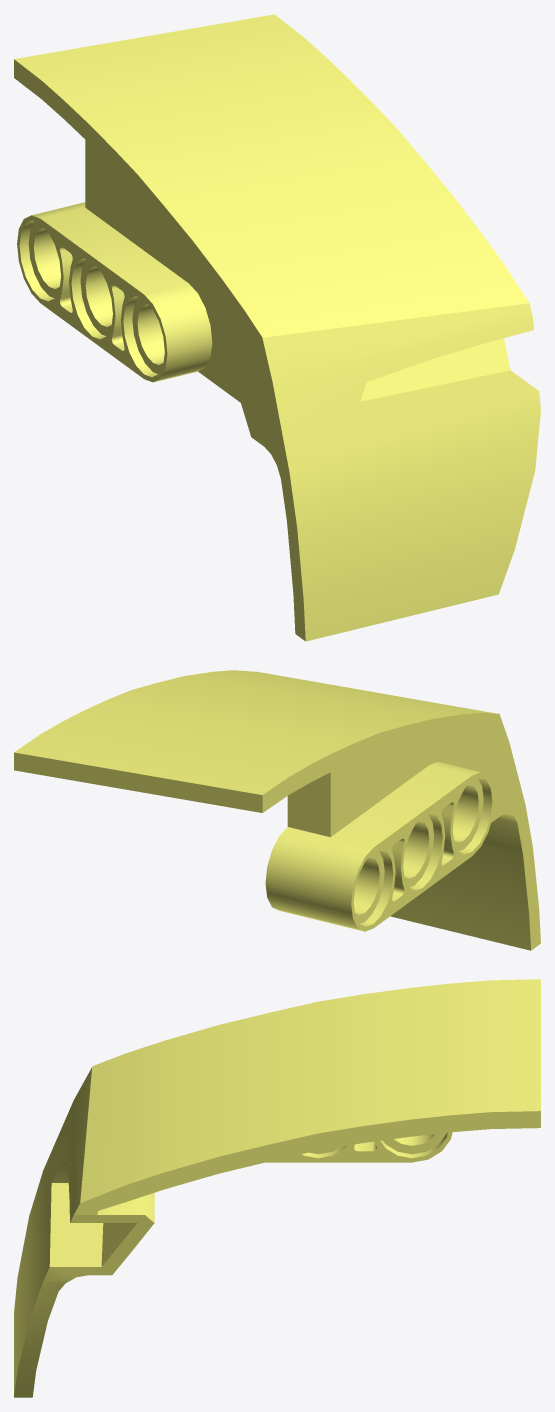
3 renders of one model, top to bottom at view 1: azimuth 30°, elevation 25°; view 2: azimuth 150°, elevation 25°; view 3: azimuth 270°, elevation 25°, orthographic. The views are drawn at different scales.
Parts seen in each view (by area): view 1: 61071.dat; view 2: 61071.dat; view 3: 61071.dat.
Boxes of the visible parts, x1=… form: 61071.dat: x1=14, y1=14, x2=540, y2=641; 61071.dat: x1=14, y1=670, x2=540, y2=950; 61071.dat: x1=14, y1=979, x2=540, y2=1397.
Bounding box in the file's own units: 0.0272 × 0.0314 × 0.045.
